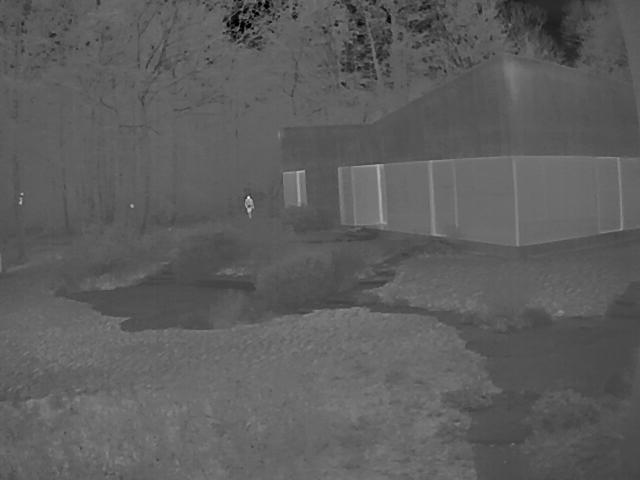person: (245, 194, 257, 217)
